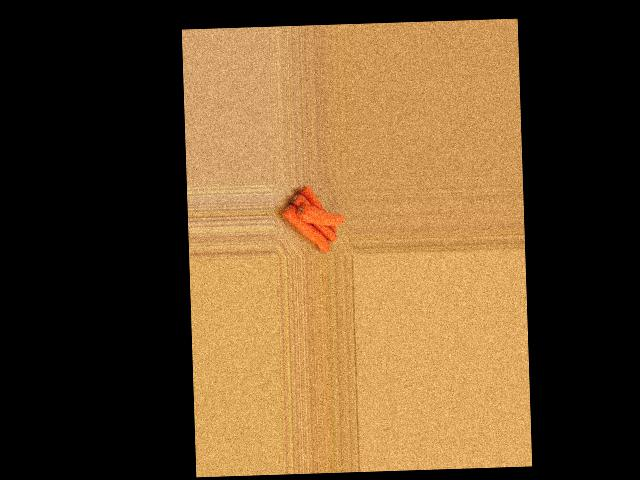carrot: (297, 180, 333, 221)
